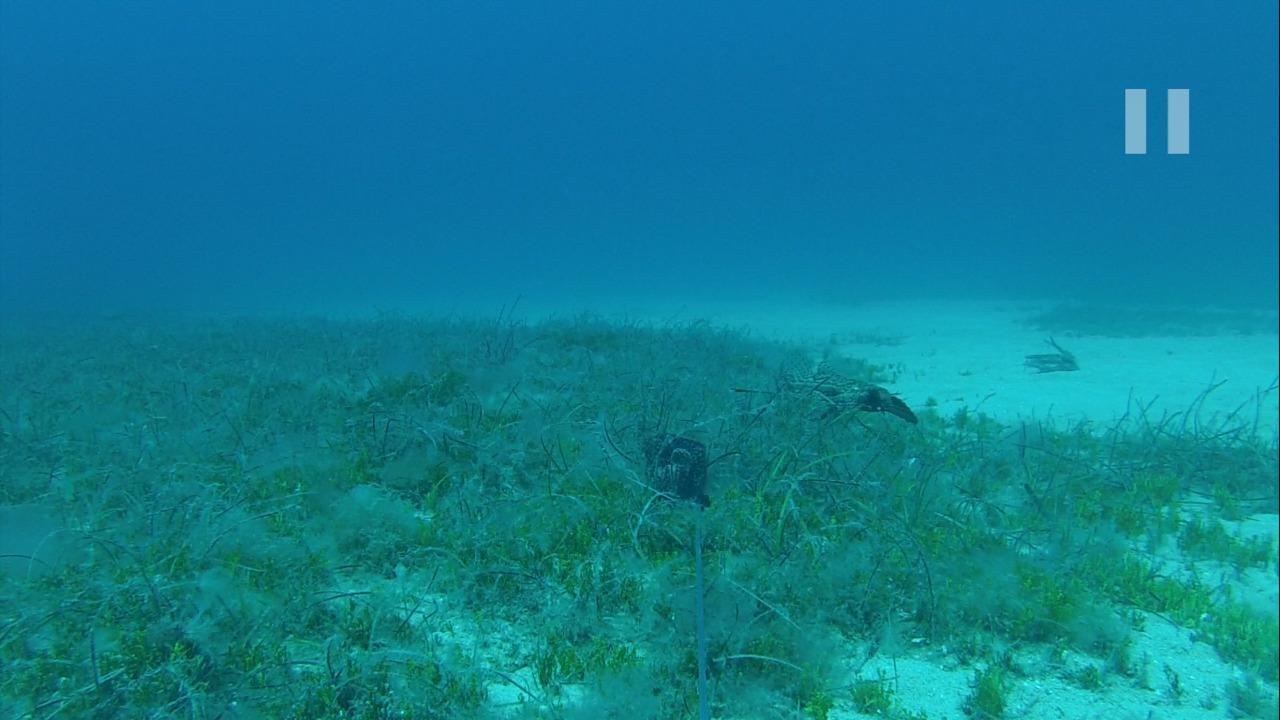dactylopterus: (711, 360, 930, 436)
